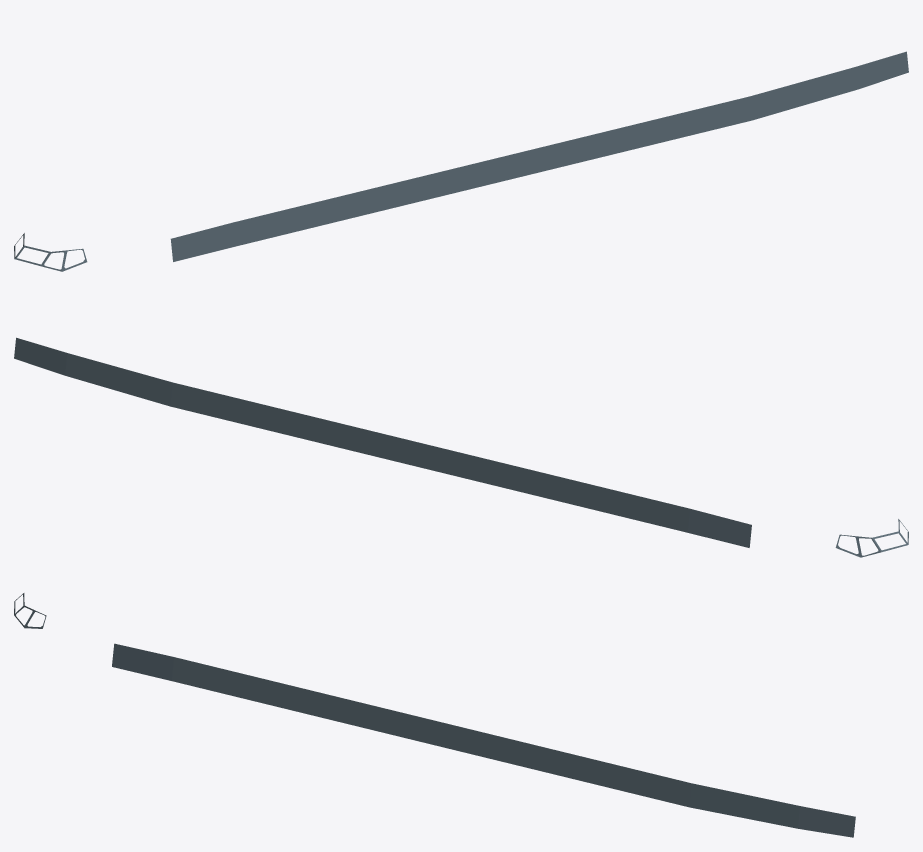
File: b737.glass.glb
3 views of the same model, one above another, from view 1: azimuth 30°, elevation 25°; view 2: azimuth 150°, elevation 25°; view 3: azimuth 330°, elevation 25° (orthographic).
Parts seen in each view (by area): view 1: glass; view 2: glass; view 3: glass.
Part boxes in pixels (bbox=[...]): glass: bbox=[14, 51, 908, 271]; glass: bbox=[14, 337, 908, 557]; glass: bbox=[14, 593, 855, 837].
Bounding box in the file's own units: 28.96 × 0.8479 × 3.68.
